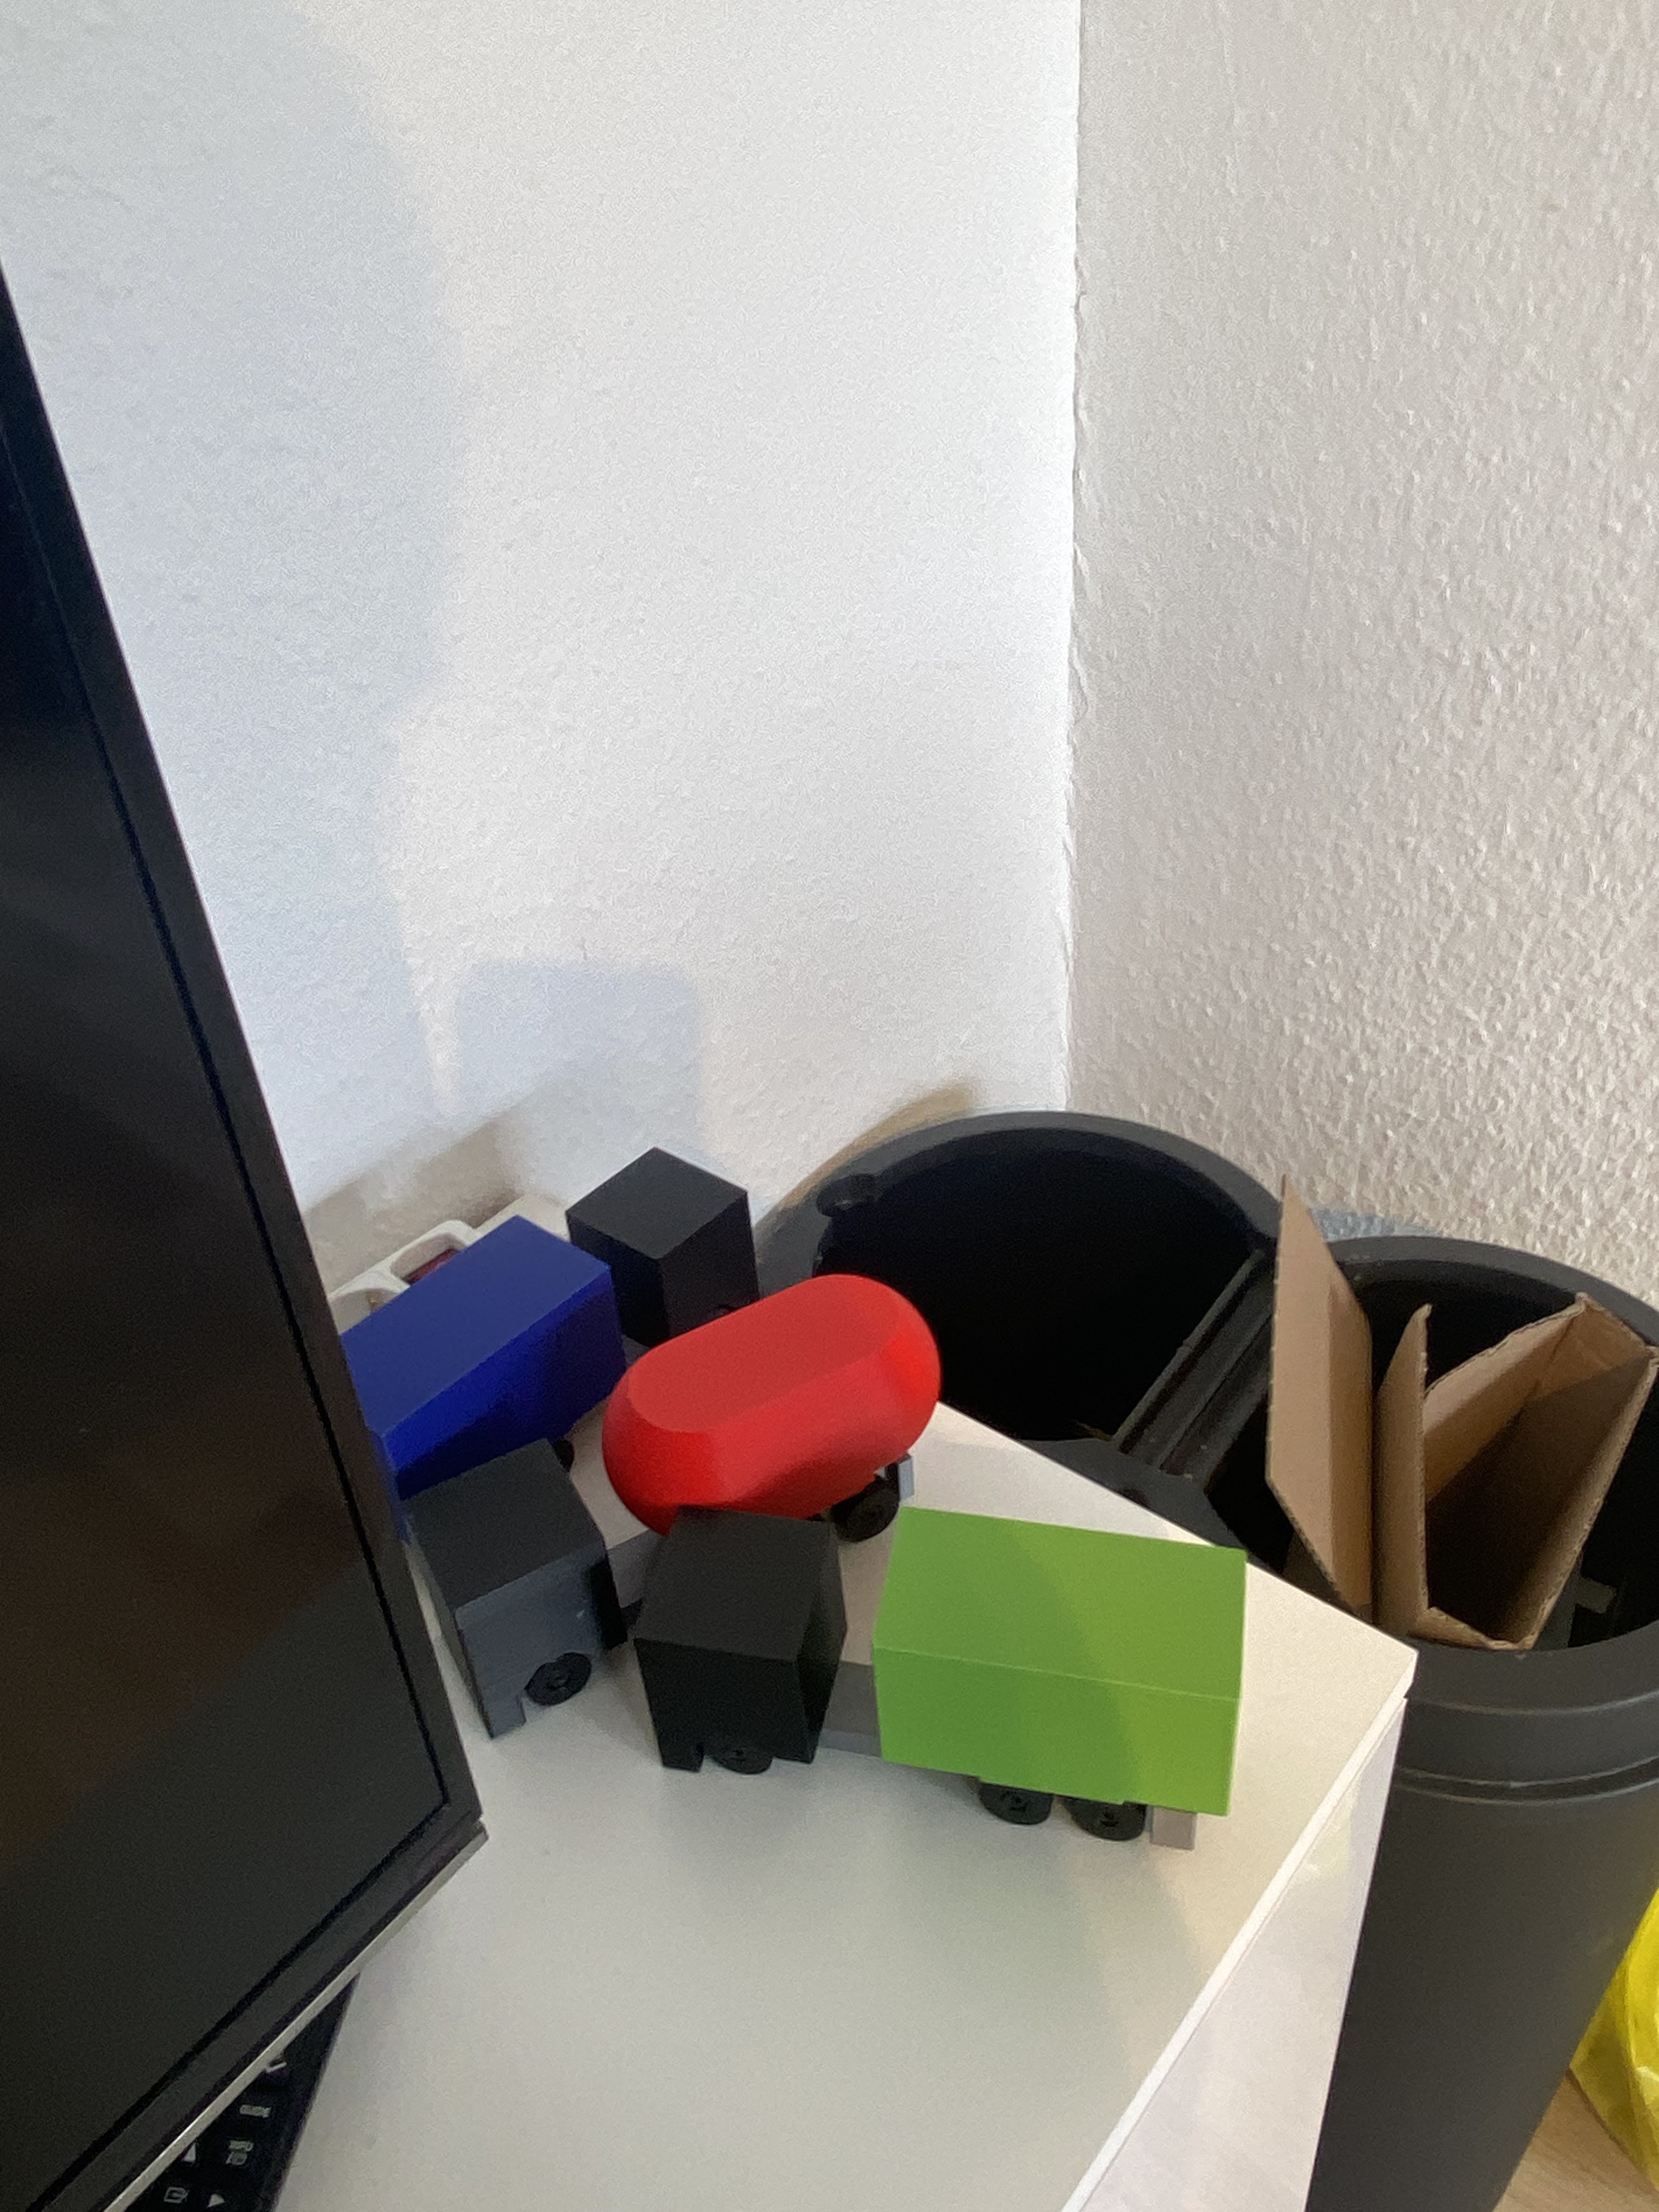blue_truck: (322, 1221, 777, 1397)
green_truck: (627, 1503, 1255, 1804)
red_truck: (383, 1355, 990, 1620)
